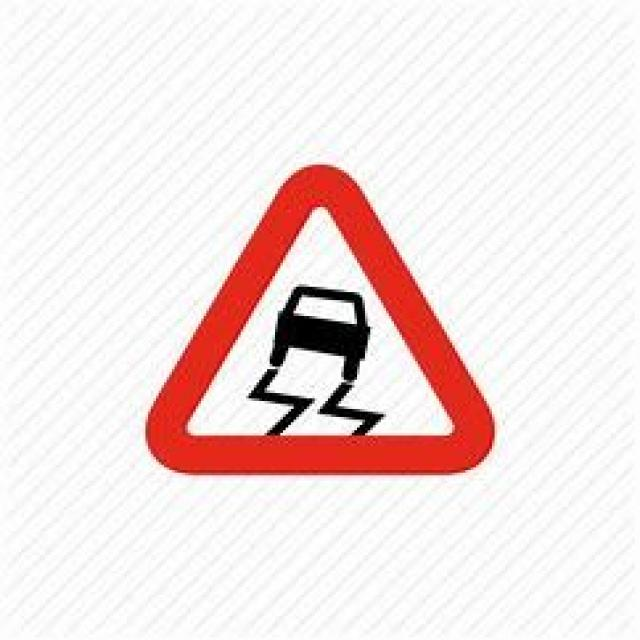SLIPPERY_ROAD: (143, 162, 494, 475)
